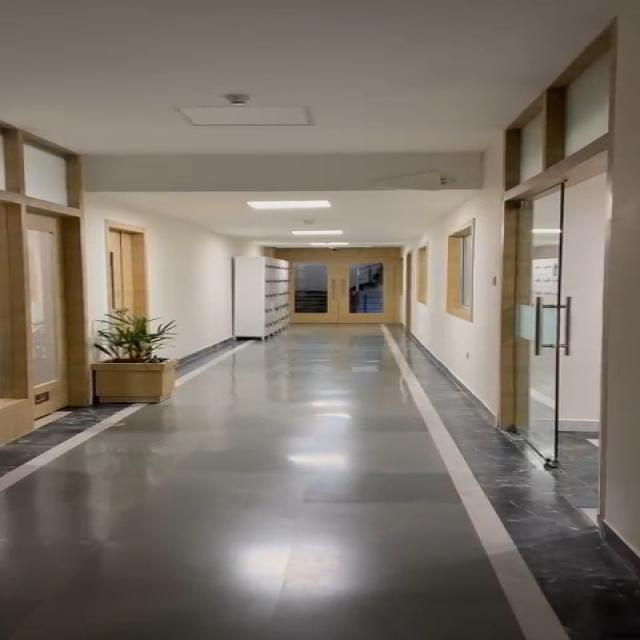door: (491, 148, 631, 485), (0, 134, 88, 418), (275, 244, 413, 336), (96, 224, 153, 326)
floor: (4, 421, 612, 640), (192, 334, 438, 428)
furniture: (80, 308, 178, 418)
wall: (414, 212, 488, 368), (164, 216, 258, 338)
